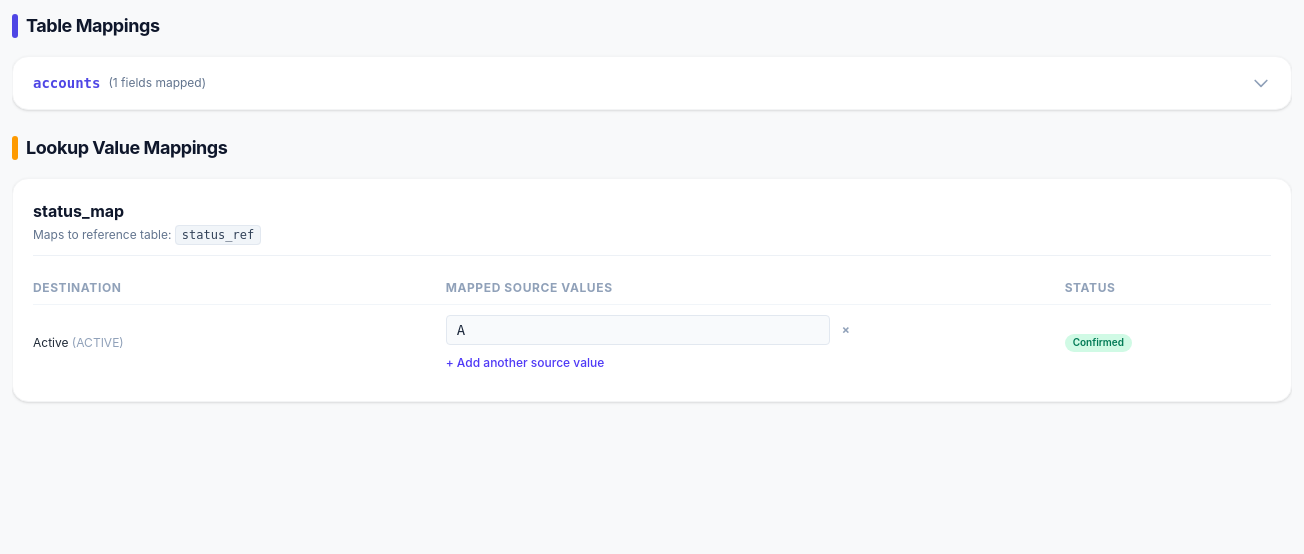
it: ReviewGrid › narrows destination field options once the user types
Click the button "accounts (1 fields mapped)".
click(67, 83)  # box [13, 57, 1291, 109]
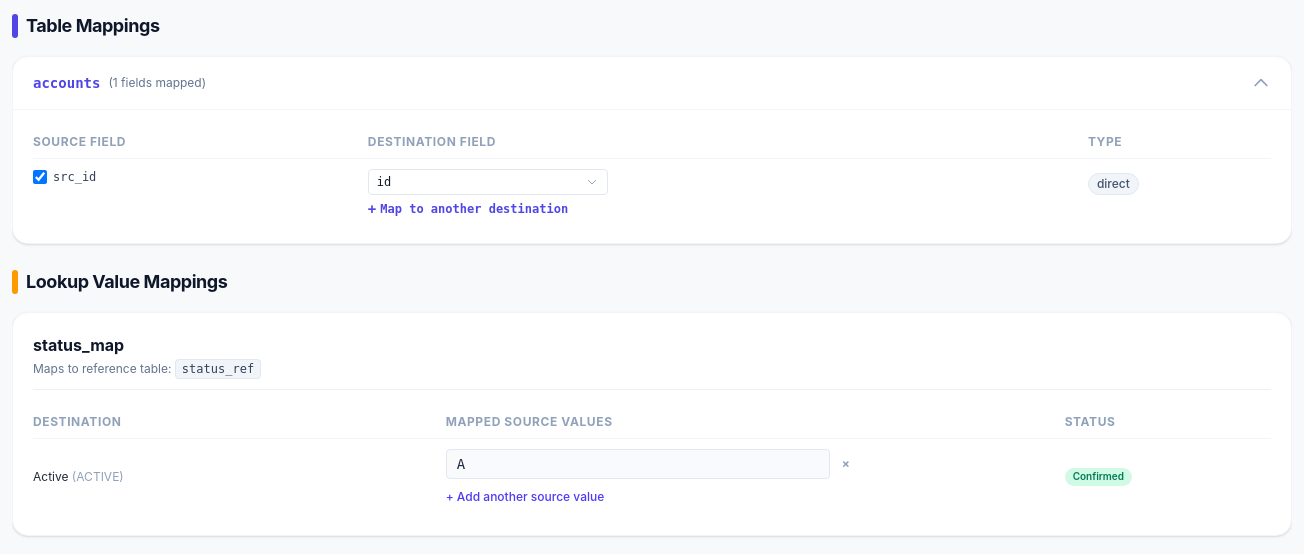
Replace the text in the field with placeholder "destination field..." in the row of "src_id" with "stat" at point(488, 182), box [368, 169, 608, 195]
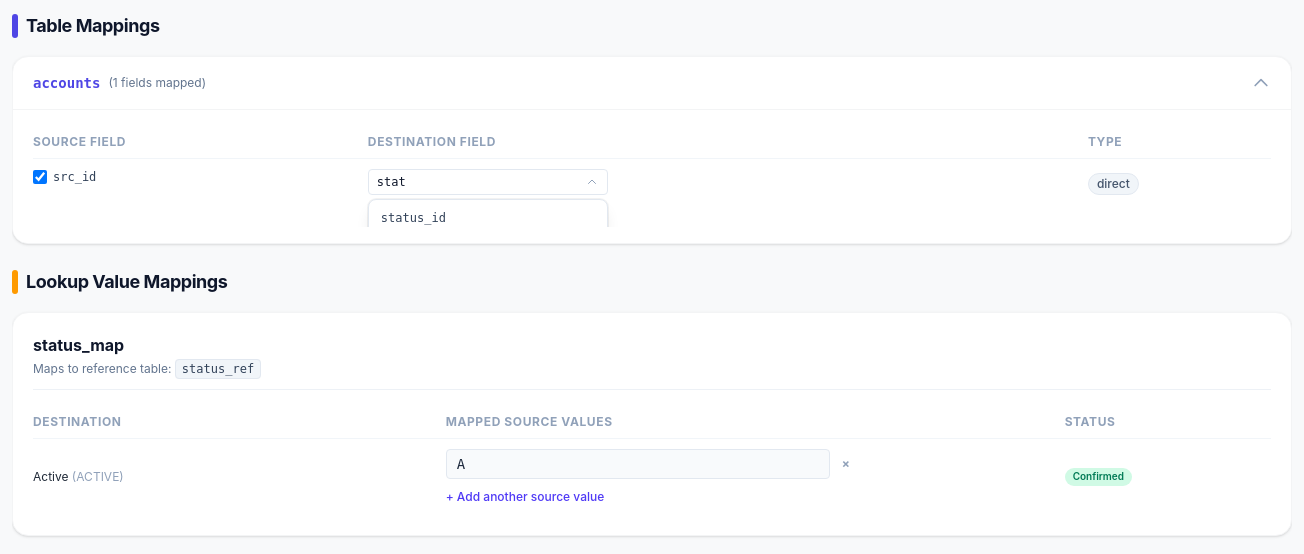
Result: the list item "status_id" is shown at [381, 211, 446, 225]
